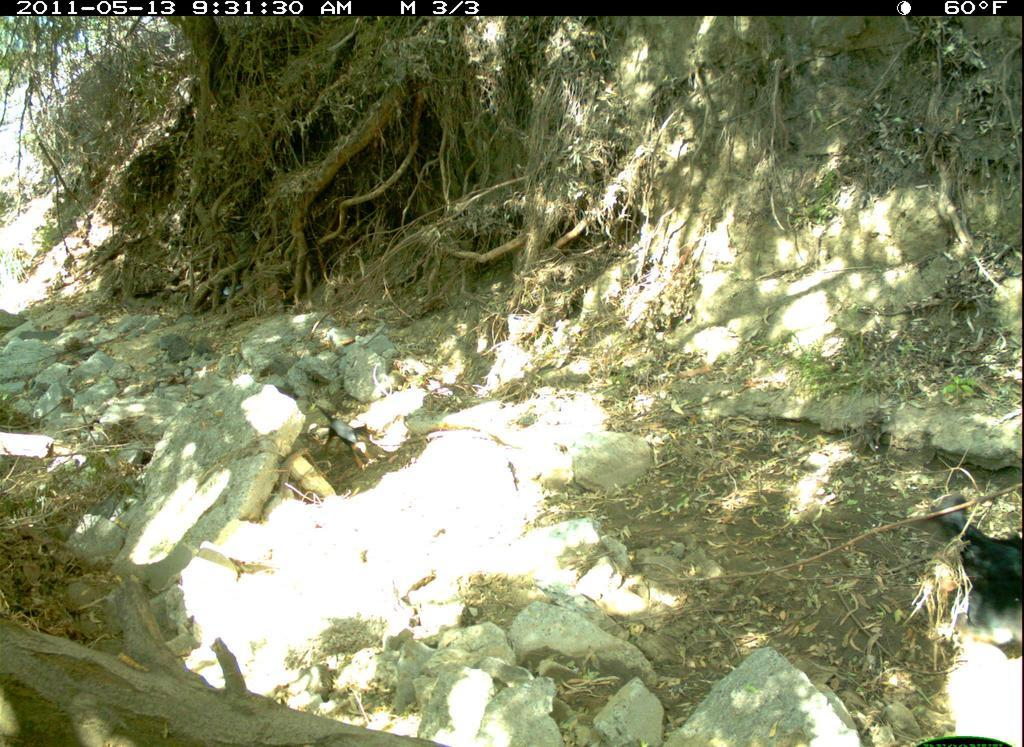dog: (926, 495, 1023, 693)
